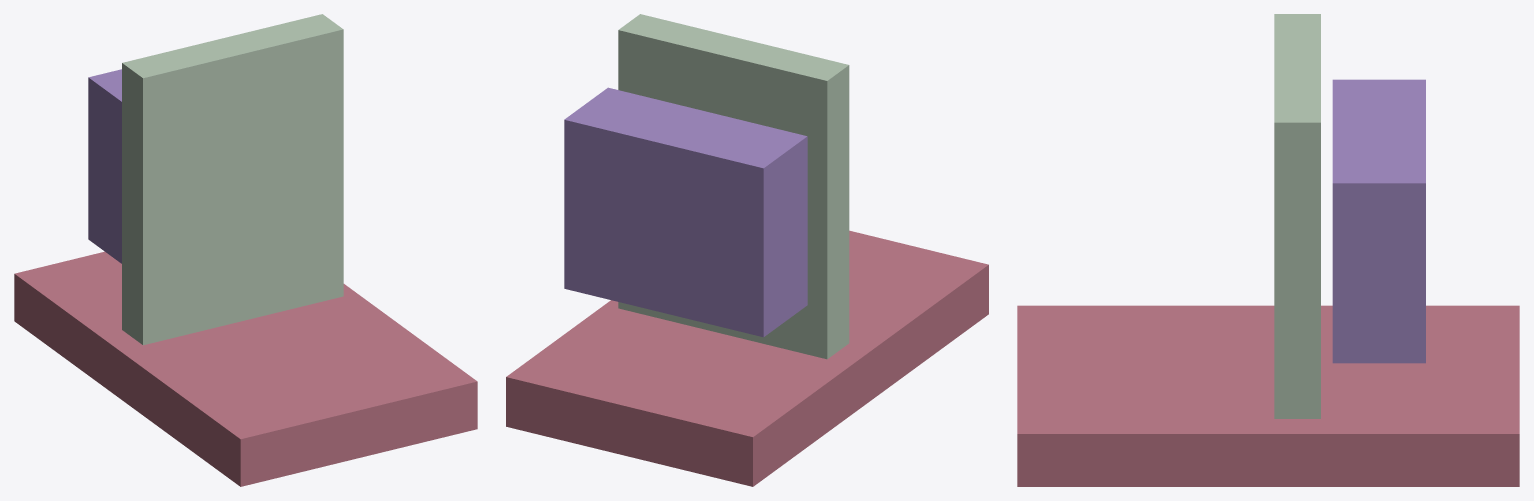
3 views of the same model, side by side, from view 1: azimuth 30°, elevation 25°; view 2: azimuth 150°, elevation 25°; view 3: azimuth 270°, elevation 25° (orthographic). The views are drawn at different scales.
Parts seen in each view (by area): view 1: world; view 2: world; view 3: world.
Boxes of the visible parts, left/top/right/bottom form: world: left=14, top=14, right=477, bottom=486; world: left=506, top=14, right=988, bottom=486; world: left=1017, top=14, right=1519, bottom=486.
Size of the model in its own units: 2.6 by 3.35 by 4.3.
